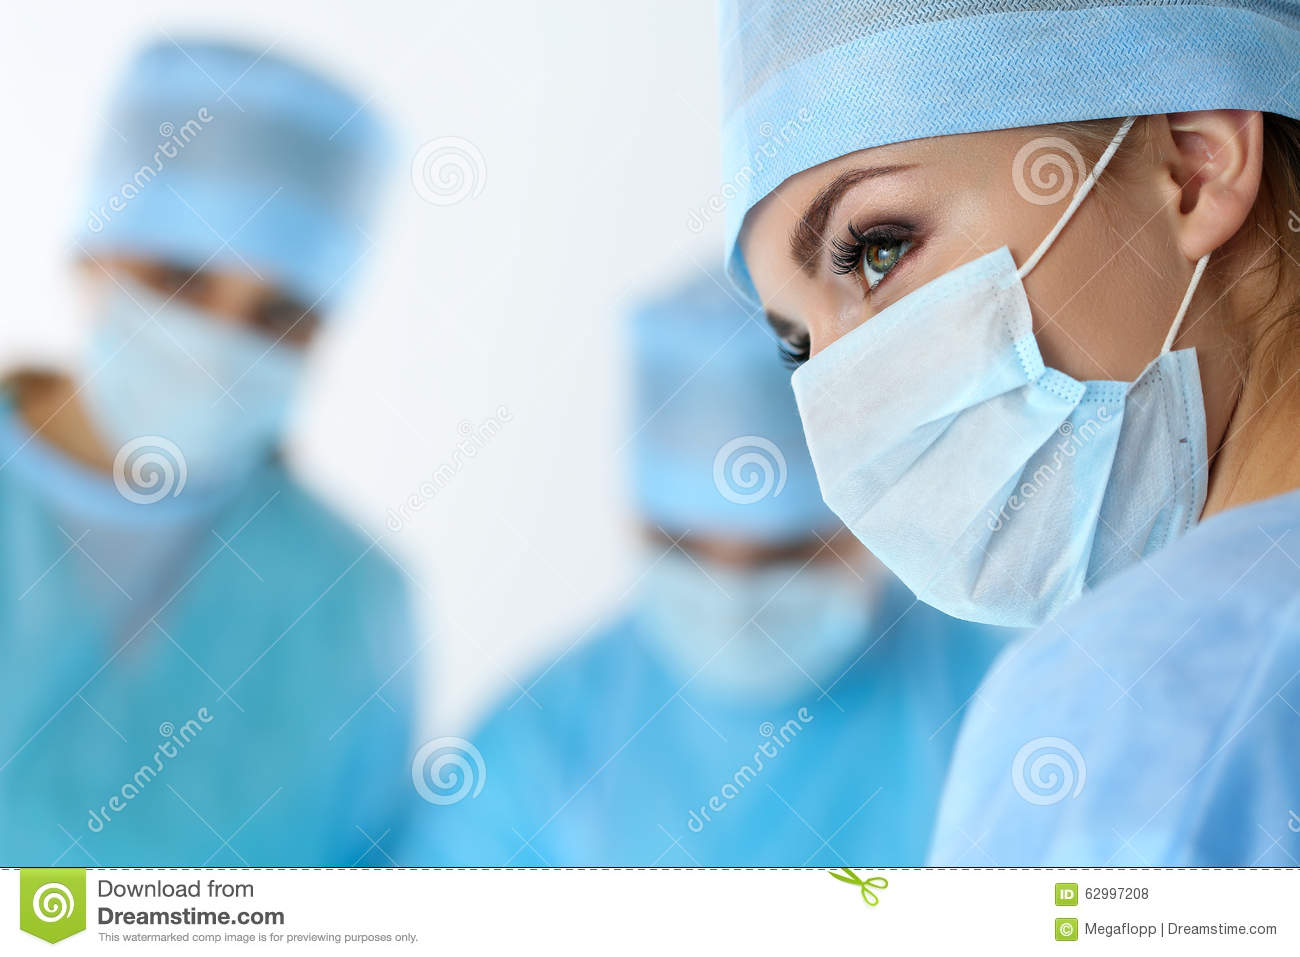mask: (770, 311, 1169, 623)
